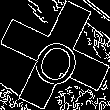O_NE: (24, 23, 86, 87)
